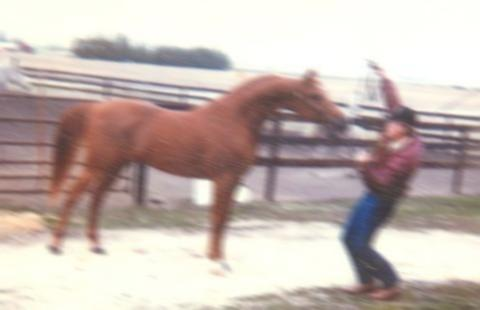horse: (44, 67, 351, 275)
